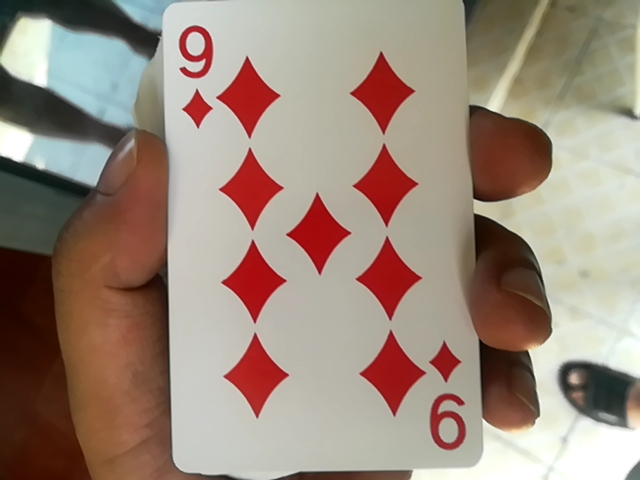fk 9: (157, 8, 493, 474)
